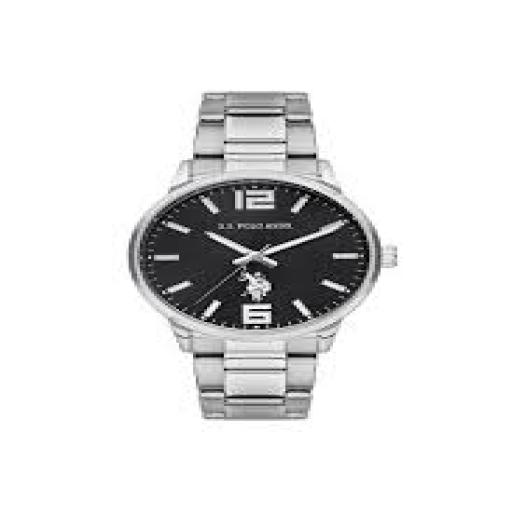KolSaati: (125, 69, 411, 441)
